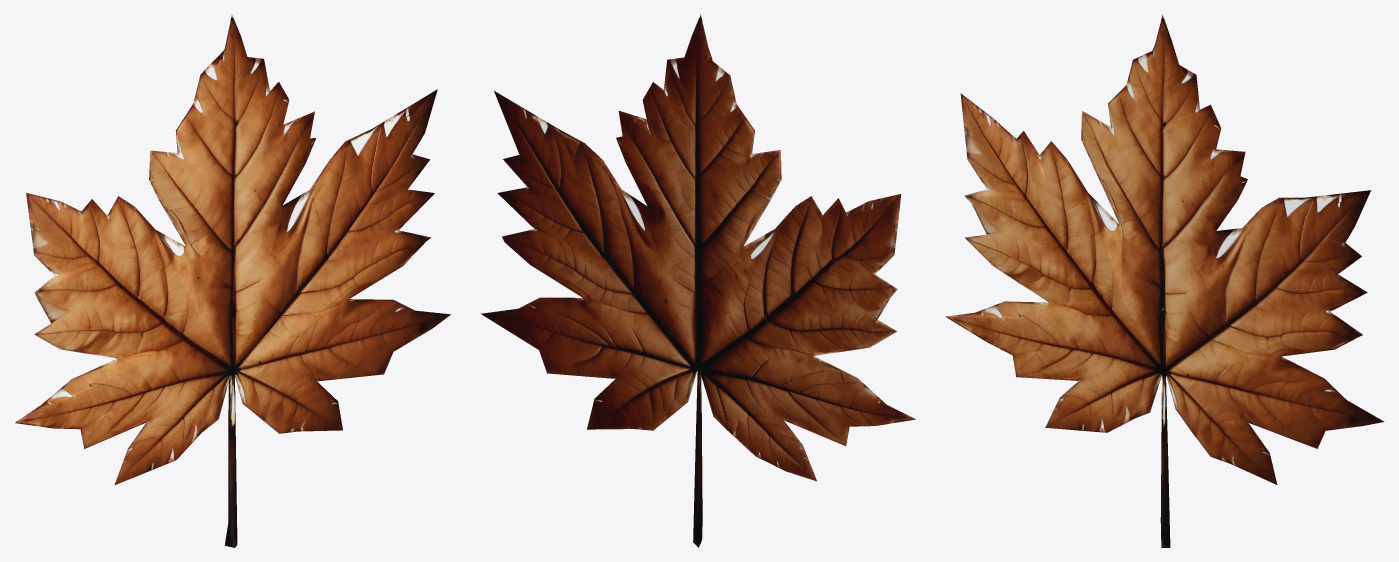
The model's file is leaf3.glb.
The picture shows the model from 3 angles, left to right: view 1: azimuth 30°, elevation 25°; view 2: azimuth 150°, elevation 25°; view 3: azimuth 330°, elevation 25°; orthographic projection.
Visible parts, largest first — view 1: model; view 2: model; view 3: model.
Part boxes in pixels (<box>): model: <box>15,15,450,547</box>; model: <box>480,14,915,547</box>; model: <box>945,14,1384,547</box>.
Bounding box in the file's own units: 1.51 × 1.76 × 0.052.
Materials: 1 (1 with a texture image).
